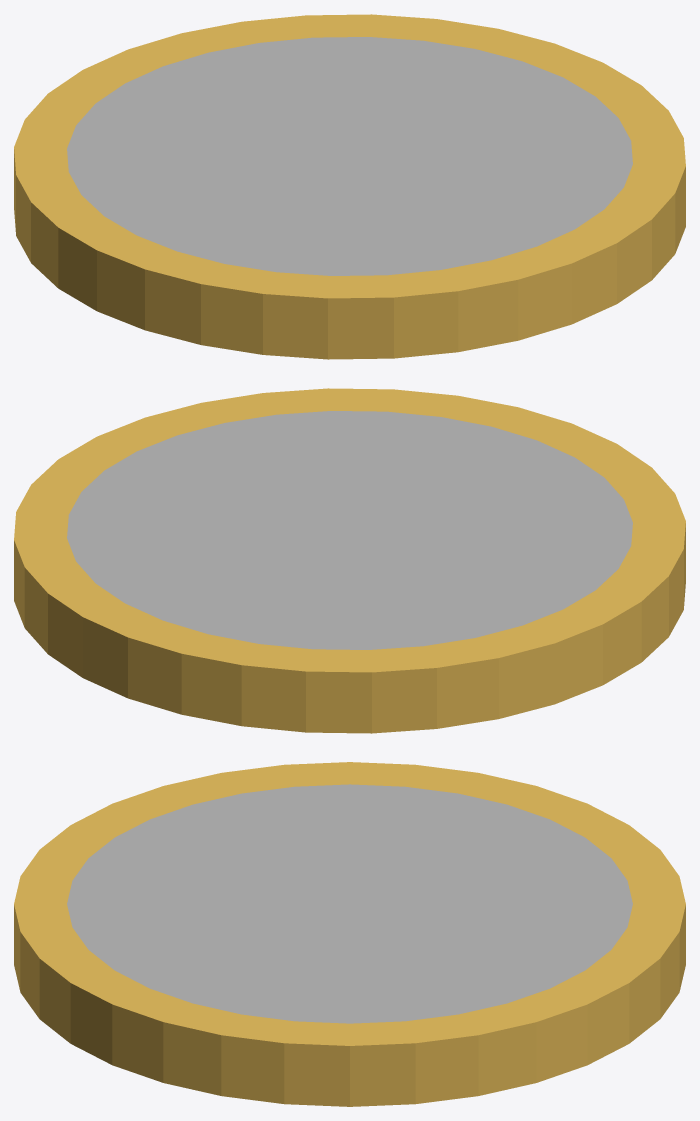
Rendered from muntgeld.fbx.
3 renders of one model, top to bottom at view 1: azimuth 30°, elevation 25°; view 2: azimuth 150°, elevation 25°; view 3: azimuth 270°, elevation 25°, orthographic.
Parts seen in each view (by area): view 1: Cylinder; view 2: Cylinder; view 3: Cylinder.
Boxes of the visible parts, x1,y1,x2,y2 form: Cylinder: (14, 14, 685, 359); Cylinder: (14, 388, 685, 733); Cylinder: (14, 762, 685, 1106).
Size of the model in its own units: 200 by 20 by 200.
